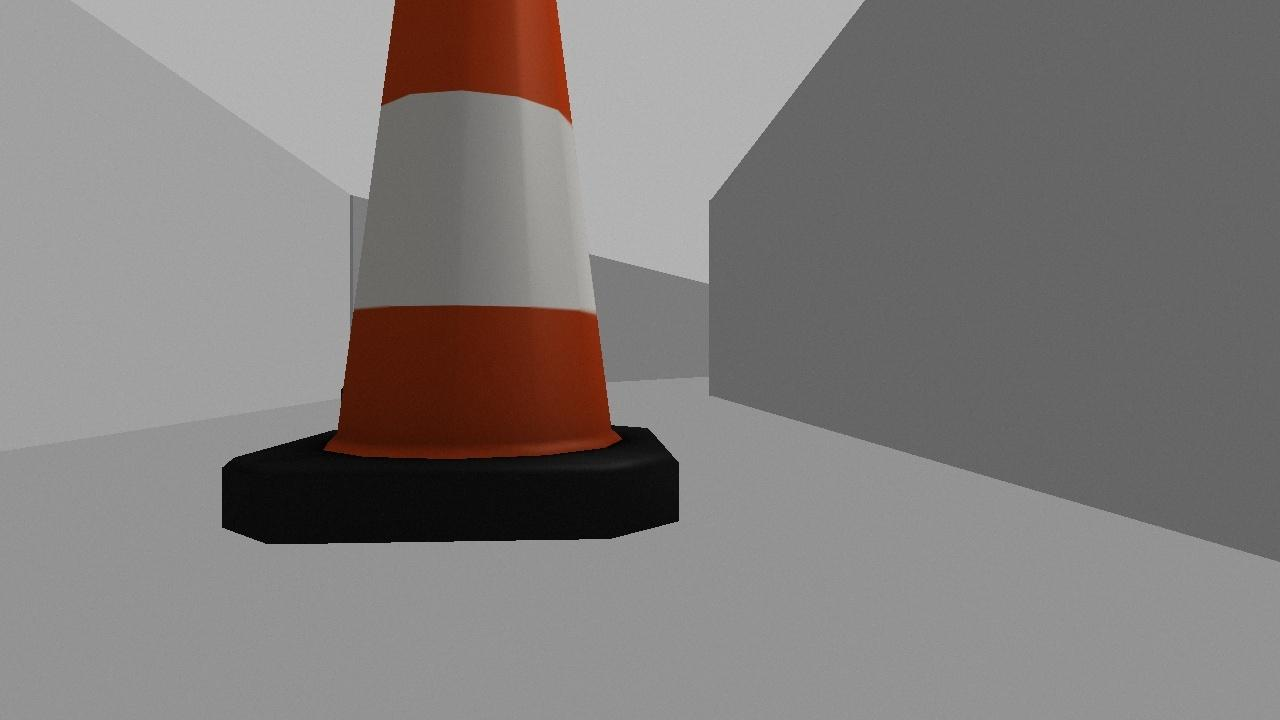cone_barrel: (220, 0, 677, 543)
